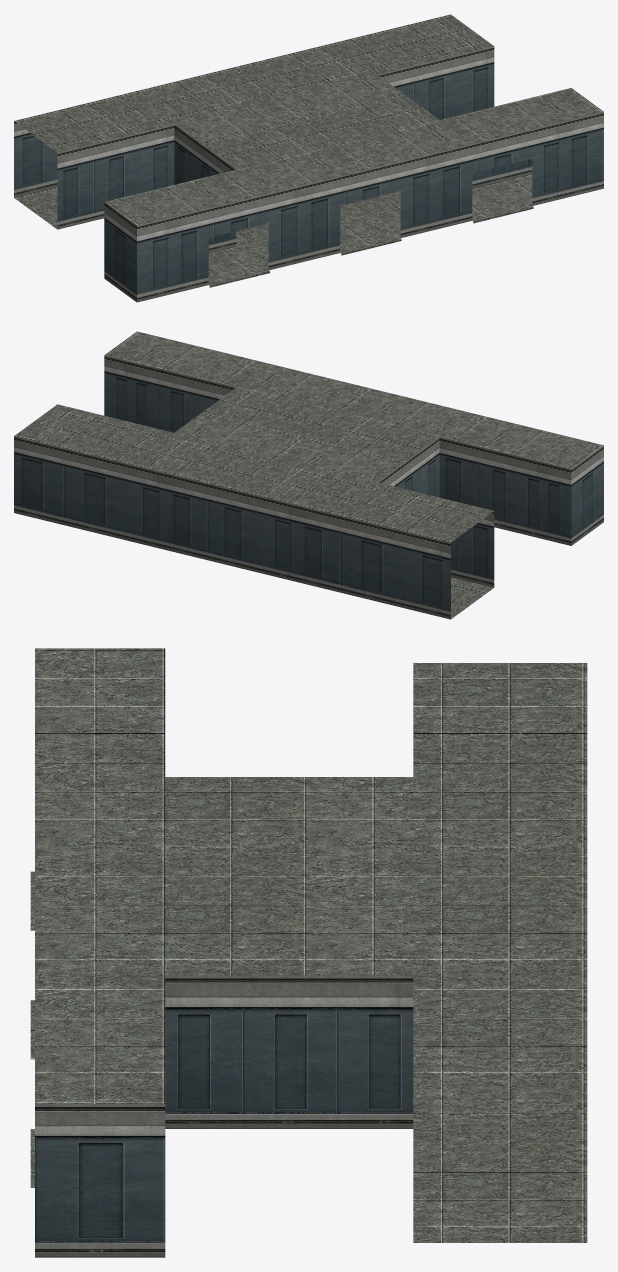
File: thm_corl_imprv_building_s01_r1_foyer1_mesh_l0.fbx
3 renders of one model, top to bottom at view 1: azimuth 30°, elevation 25°; view 2: azimuth 150°, elevation 25°; view 3: azimuth 270°, elevation 25°, orthographic. The views are drawn at different scales.
Parts seen in each view (by area): view 1: mesh_node; view 2: mesh_node; view 3: mesh_node.
Boxes of the visible parts, x1,y1,x2,y2 form: mesh_node: (14,14,603,302); mesh_node: (14,331,603,619); mesh_node: (30,648,587,1257).
Size of the model in its own units: 24.8 by 4 by 12.8.
